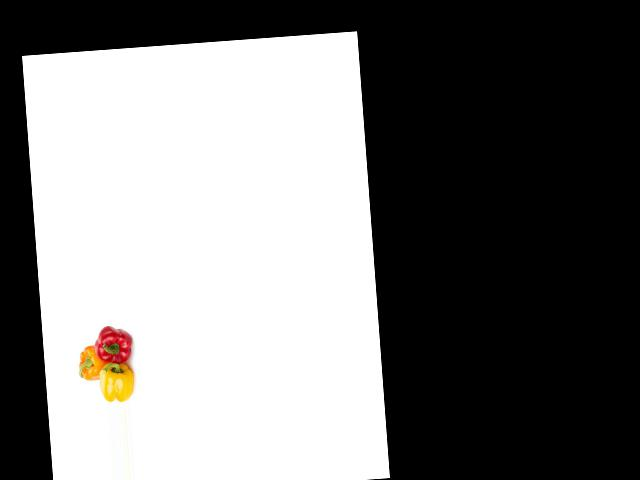bell_pepper: (97, 363, 138, 403)
